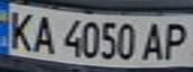0: (115, 19, 142, 62), (78, 18, 103, 60)
4: (57, 16, 84, 58)
5: (100, 19, 121, 61)
A: (27, 11, 60, 55), (139, 19, 169, 61)
K: (0, 7, 39, 52)
P: (157, 18, 193, 61)
